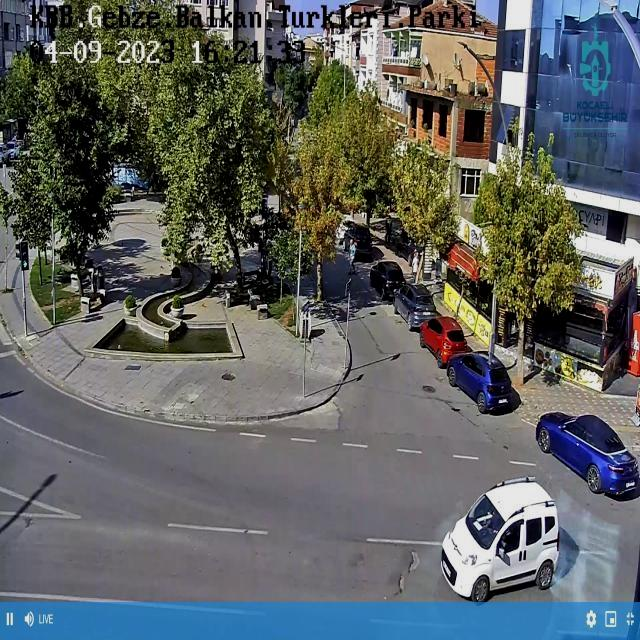Car: (441, 475, 557, 603), (537, 410, 640, 496), (448, 352, 513, 414), (418, 314, 467, 369), (398, 282, 437, 329), (372, 261, 406, 298)
